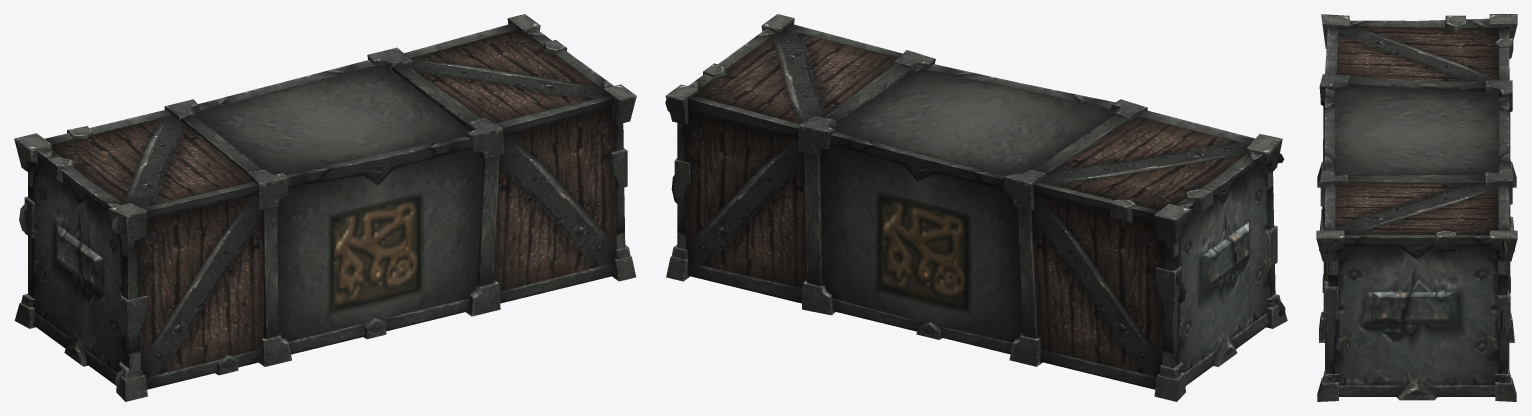
Rendered from SM_EN_2010_muxiang03.FBX.
3 renders of one model, left to right at view 1: azimuth 30°, elevation 25°; view 2: azimuth 150°, elevation 25°; view 3: azimuth 270°, elevation 25°, orthographic. The views are drawn at different scales.
Visible parts, largest first — view 1: SM_EN_2010_muxiang03; view 2: SM_EN_2010_muxiang03; view 3: SM_EN_2010_muxiang03.
Boxes of the visible parts, x1,y1,x2,y2 form: SM_EN_2010_muxiang03: (14, 14, 636, 401); SM_EN_2010_muxiang03: (665, 14, 1287, 401); SM_EN_2010_muxiang03: (1316, 14, 1517, 401).
Bounding box in the file's own units: 99.37 × 33.27 × 36.85.
